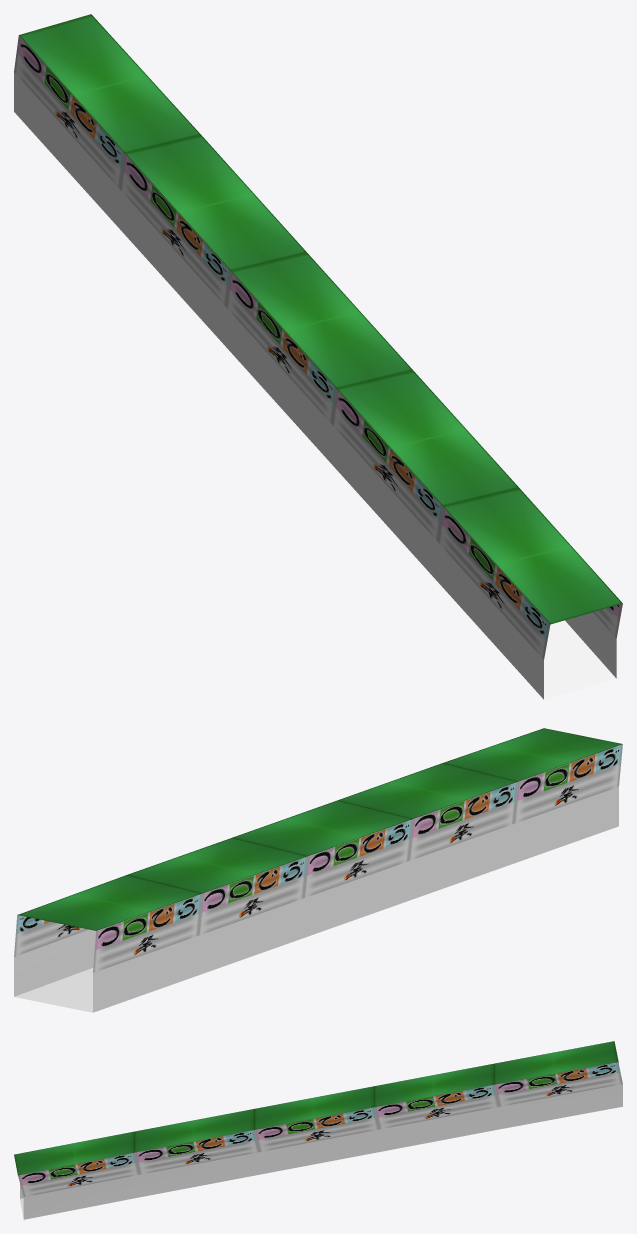
File: CourseWinter_Wall_L_7.fbx
3 views of the same model, one above another, from view 1: azimuth 30°, elevation 25°; view 2: azimuth 150°, elevation 25°; view 3: azimuth 270°, elevation 25° (orthographic). The views are drawn at different scales.
Parts seen in each view (by area): view 1: polySurface394; view 2: polySurface394; view 3: polySurface394.
Boxes of the visible parts, left/top/right/bottom form: polySurface394: left=14, top=14, right=622, bottom=699; polySurface394: left=14, top=728, right=622, bottom=1012; polySurface394: left=14, top=1041, right=622, bottom=1219.
Bounding box in the file's own units: 2.02 × 6.98 × 24.39.
Materials: 1 (1 with a texture image).
